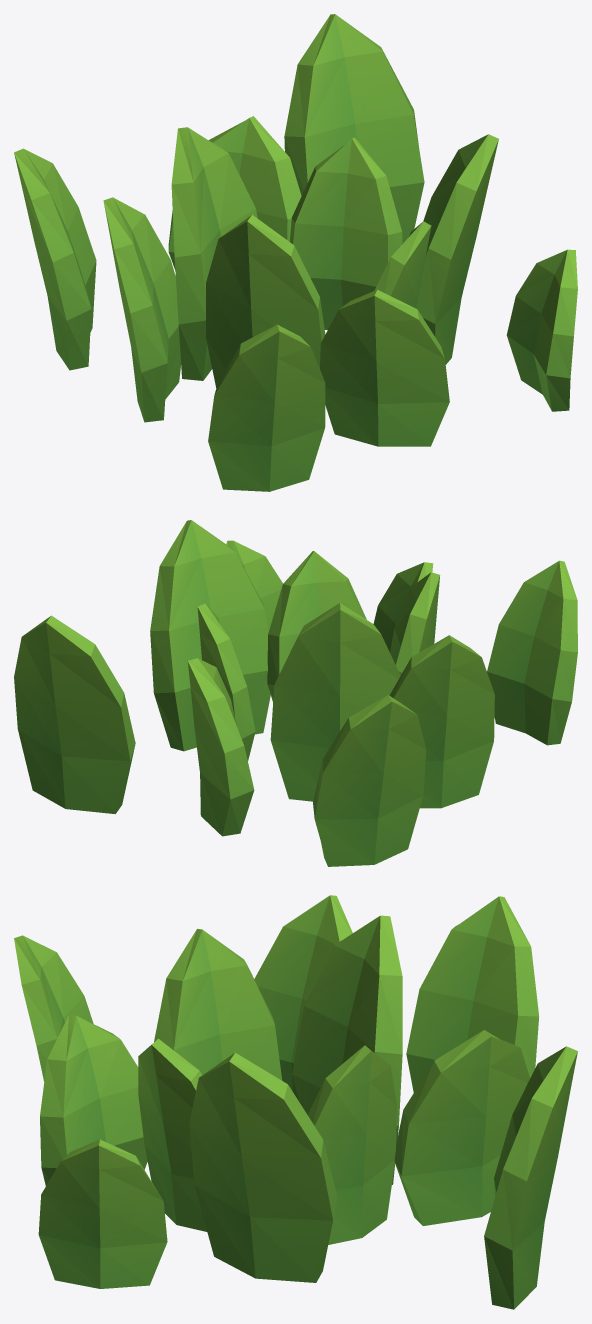
Rendered from kf_grass_1_d.fbx.
3 views of the same model, one above another, from view 1: azimuth 30°, elevation 25°; view 2: azimuth 150°, elevation 25°; view 3: azimuth 270°, elevation 25° (orthographic). The views are drawn at different scales.
Visible parts, largest first — view 1: kf_grass_1_d_LOD0; view 2: kf_grass_1_d_LOD0; view 3: kf_grass_1_d_LOD0.
Boxes of the visible parts, x1,y1,x2,y2 form: kf_grass_1_d_LOD0: (14, 14, 577, 491); kf_grass_1_d_LOD0: (14, 520, 577, 866); kf_grass_1_d_LOD0: (14, 895, 577, 1309).
Size of what is drawn, in the model's own units: 1.51 by 0.8239 by 1.65.
Materials: 1 (1 with a texture image).
